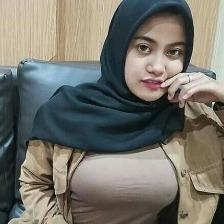Non Syar-i: (30, 0, 195, 152)
